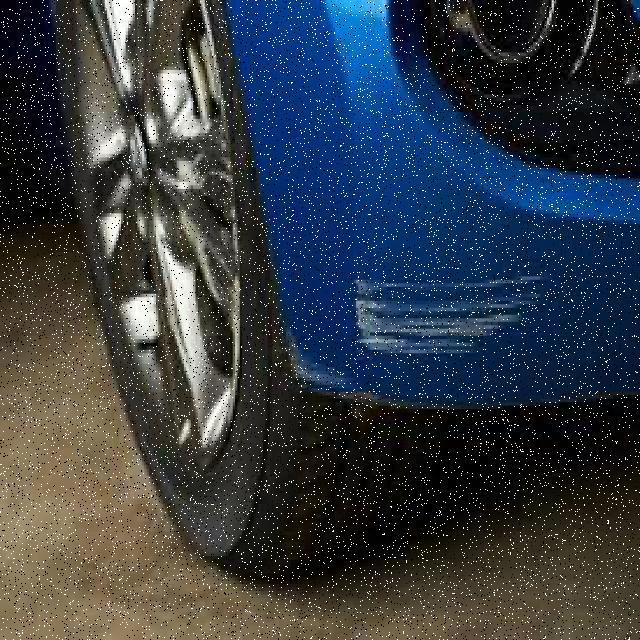hood: (221, 7, 638, 462)
